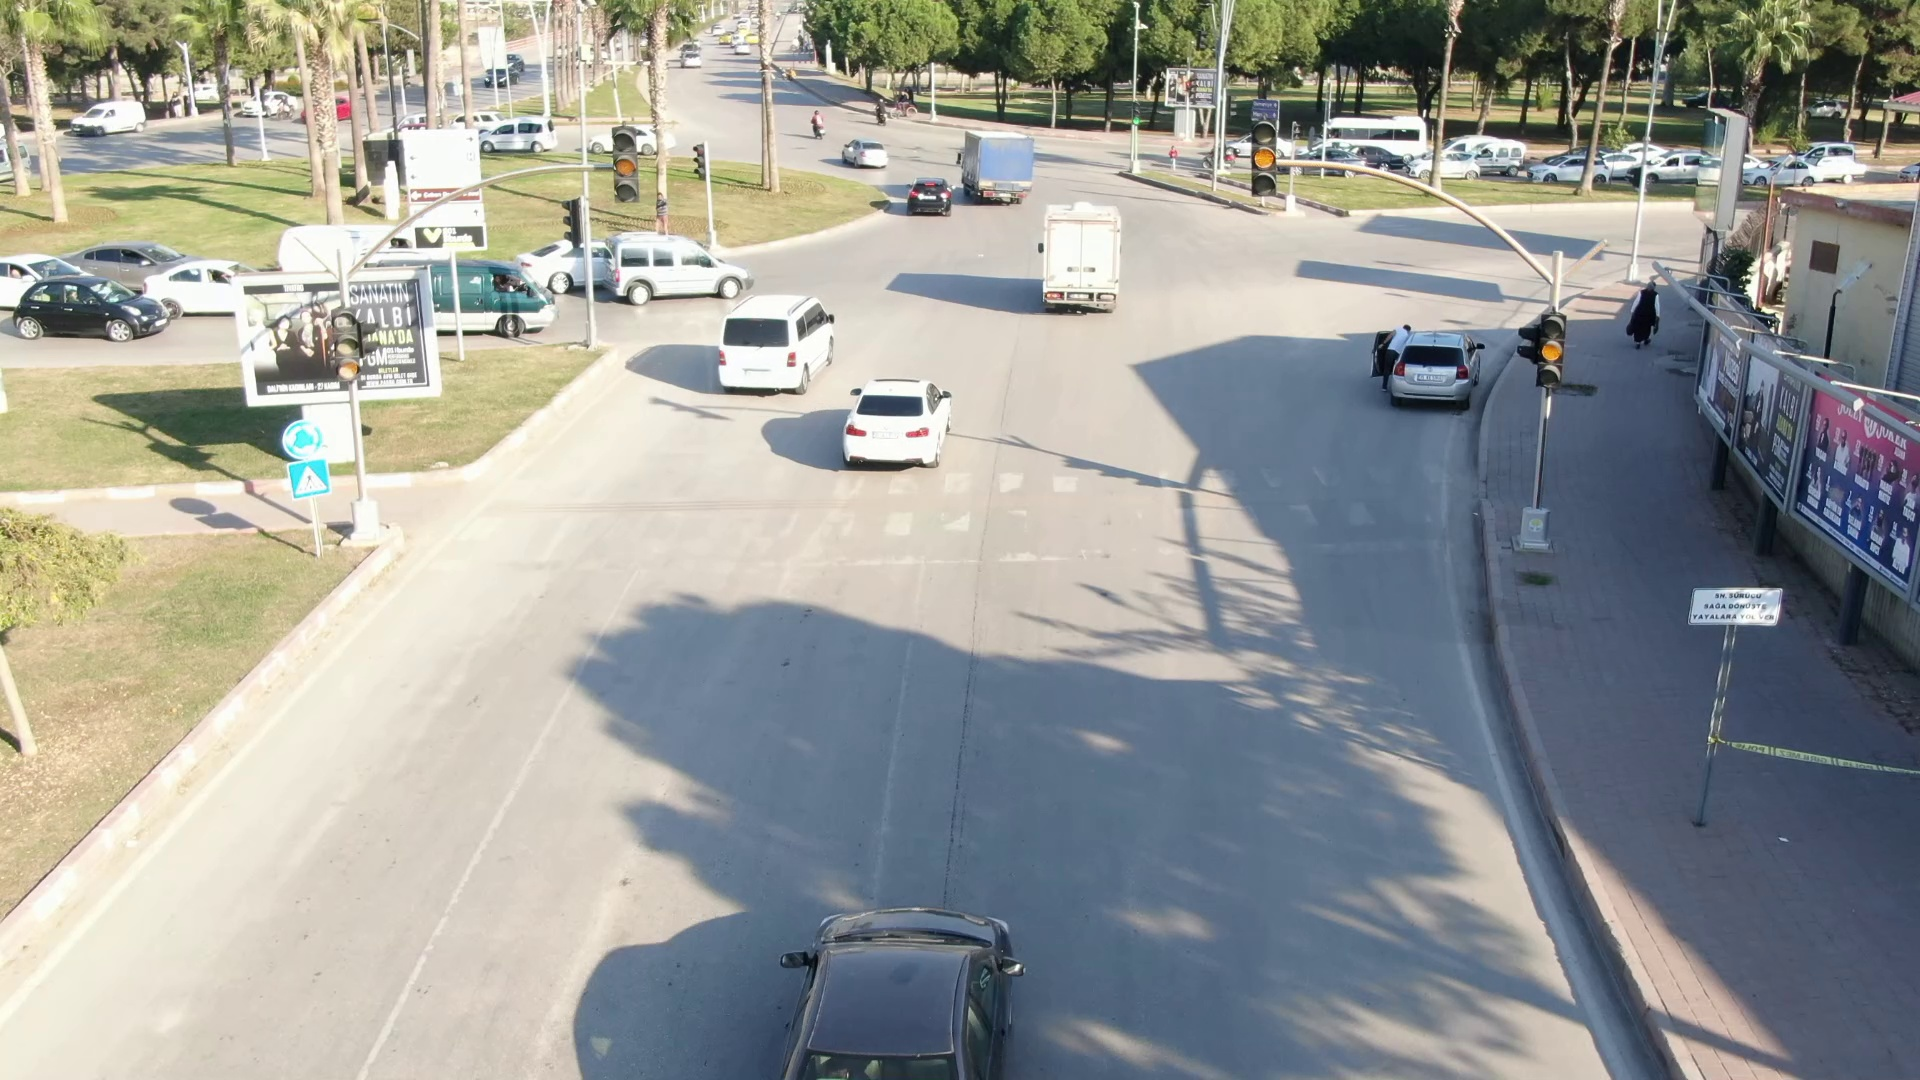car: (708, 282, 833, 409), (837, 374, 978, 479), (1030, 200, 1141, 323), (600, 226, 763, 302), (1392, 331, 1501, 413), (948, 124, 1043, 205), (899, 171, 958, 219)
person: (1620, 275, 1666, 354)
